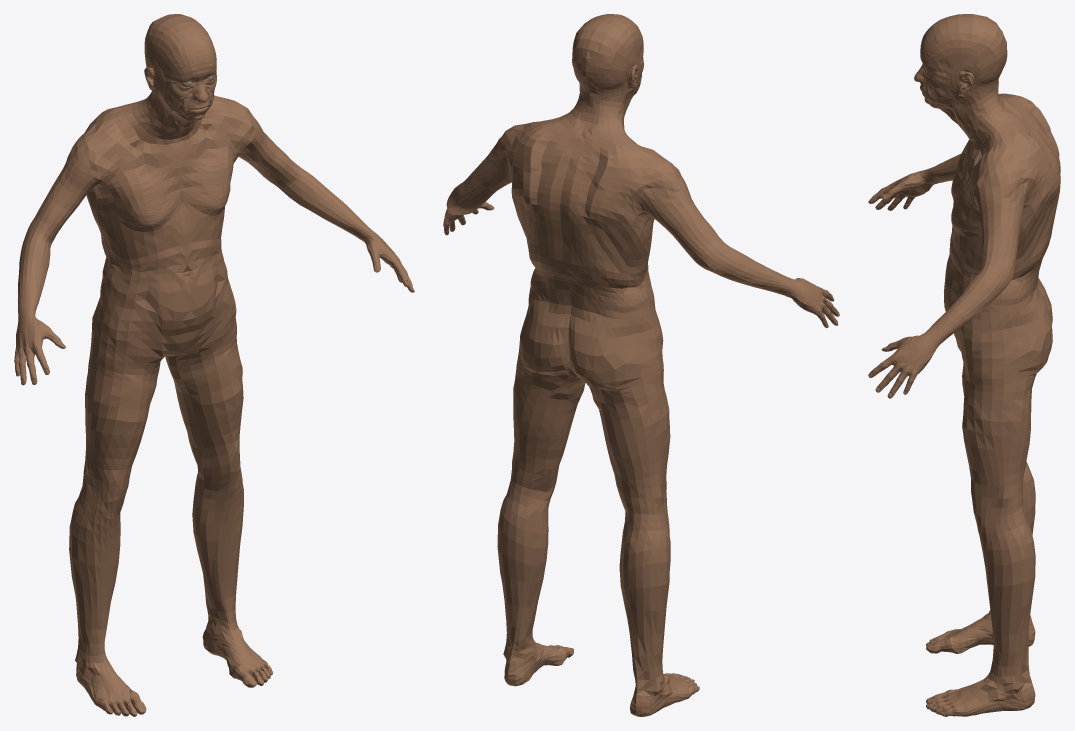
Rendered from hummodel1.obj.
3 renders of one model, left to right at view 1: azimuth 30°, elevation 25°; view 2: azimuth 150°, elevation 25°; view 3: azimuth 270°, elevation 25°, orthographic.
Visible parts, largest first — view 1: hummodel1; view 2: hummodel1; view 3: hummodel1.
Part boxes in pixels (bbox=[...]): hummodel1: bbox=[14, 14, 414, 716]; hummodel1: bbox=[443, 14, 839, 716]; hummodel1: bbox=[868, 14, 1060, 716].
Size of the model in its own units: 10.43 by 17.02 by 4.48.
